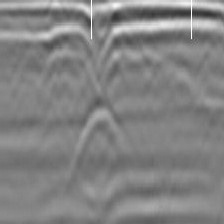Utility: (71, 96, 124, 169)
